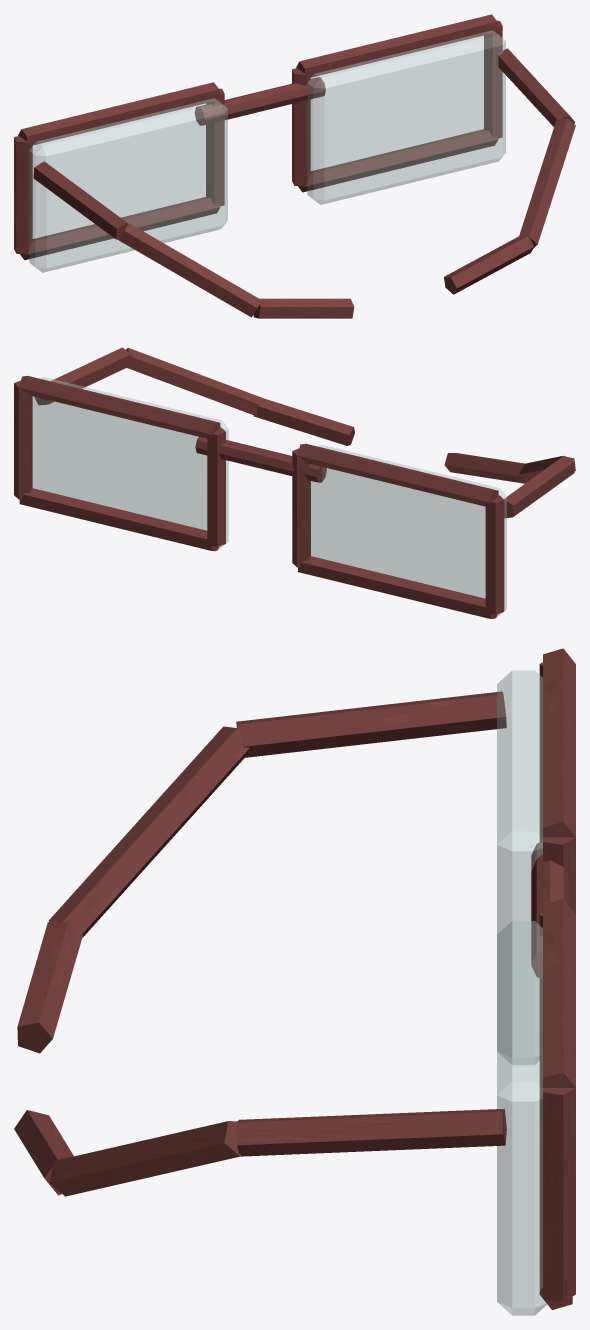
File: glasses_eye.glb
The picture shows the model from 3 angles, top to bottom: view 1: azimuth 30°, elevation 25°; view 2: azimuth 150°, elevation 25°; view 3: azimuth 270°, elevation 25°; orthographic projection. The views are drawn at different scales.
Parts seen in each view (by area): view 1: block_lens 1, block_lens -1, block_lens rim 1 1, block_lens rim -1 1, block_lens rim 1 3, block_folded temple -1 1, block_lens rim -1 3, block_folded temple 1 1, block_bridge, block_folded temple -1 0, block_lens rim -1 0, block_folded temple -1 2 (+5 smaller); view 2: block_lens -1, block_lens 1, block_lens rim -1 1, block_lens rim 1 1, block_lens rim -1 3, block_lens rim 1 3, block_folded temple 1 1, block_lens rim -1 0, block_lens rim 1 0, block_folded temple 1 2, block_bridge, block_lens rim 1 2 (+5 smaller); view 3: block_lens 1, block_lens -1, block_folded temple 1 0, block_folded temple -1 0, block_folded temple -1 1, block_folded temple 1 1, block_lens rim 1 2, block_lens rim -1 1, block_lens rim 1 1, block_folded temple -1 2, block_bridge, block_folded temple 1 2 (+2 smaller).
Part boxes in pixels (<box>): block_lens 1: <box>307,30,505,204</box>; block_lens -1: <box>29,98,227,272</box>; block_lens rim 1 1: <box>296,14,497,78</box>; block_lens rim -1 1: <box>18,82,219,146</box>; block_lens rim 1 3: <box>298,129,498,192</box>; block_folded temple -1 1: <box>119,223,261,317</box>; block_lens rim -1 3: <box>20,197,220,260</box>; block_folded temple 1 1: <box>519,118,575,248</box>; block_bridge: <box>194,77,325,125</box>; block_folded temple -1 0: <box>33,161,128,239</box>; block_lens rim -1 0: <box>14,136,32,254</box>; block_folded temple -1 2: <box>253,298,354,318</box>; block_lens -1: <box>310,444,506,619</box>; block_lens 1: <box>32,376,228,551</box>; block_lens rim -1 1: <box>297,443,498,506</box>; block_lens rim 1 1: <box>19,375,220,438</box>; block_lens rim -1 3: <box>298,556,497,618</box>; block_lens rim 1 3: <box>19,488,218,550</box>; block_folded temple 1 1: <box>126,347,260,416</box>; block_lens rim -1 0: <box>485,495,504,614</box>; block_lens rim 1 0: <box>207,427,225,546</box>; block_folded temple 1 2: <box>253,397,354,445</box>; block_bridge: <box>195,437,326,482</box>; block_lens rim 1 2: <box>14,380,32,499</box>; block_lens 1: <box>497,921,546,1315</box>; block_lens -1: <box>497,670,542,1064</box>; block_folded temple 1 0: <box>236,1108,506,1156</box>; block_folded temple -1 0: <box>236,691,506,757</box>; block_folded temple -1 1: <box>48,726,249,937</box>; block_folded temple 1 1: <box>49,1121,241,1196</box>; block_lens rim 1 2: <box>543,1088,575,1301</box>; block_lens rim -1 1: <box>543,648,575,837</box>; block_lens rim 1 1: <box>543,899,575,1087</box>; block_folded temple -1 2: <box>17,919,83,1053</box>; block_bridge: <box>531,841,568,979</box>; block_folded temple 1 2: <box>14,1110,73,1195</box>.
Bounding box in the file's own units: 0.1366 × 0.0363 × 0.074.
2 materials, 2 textured.
